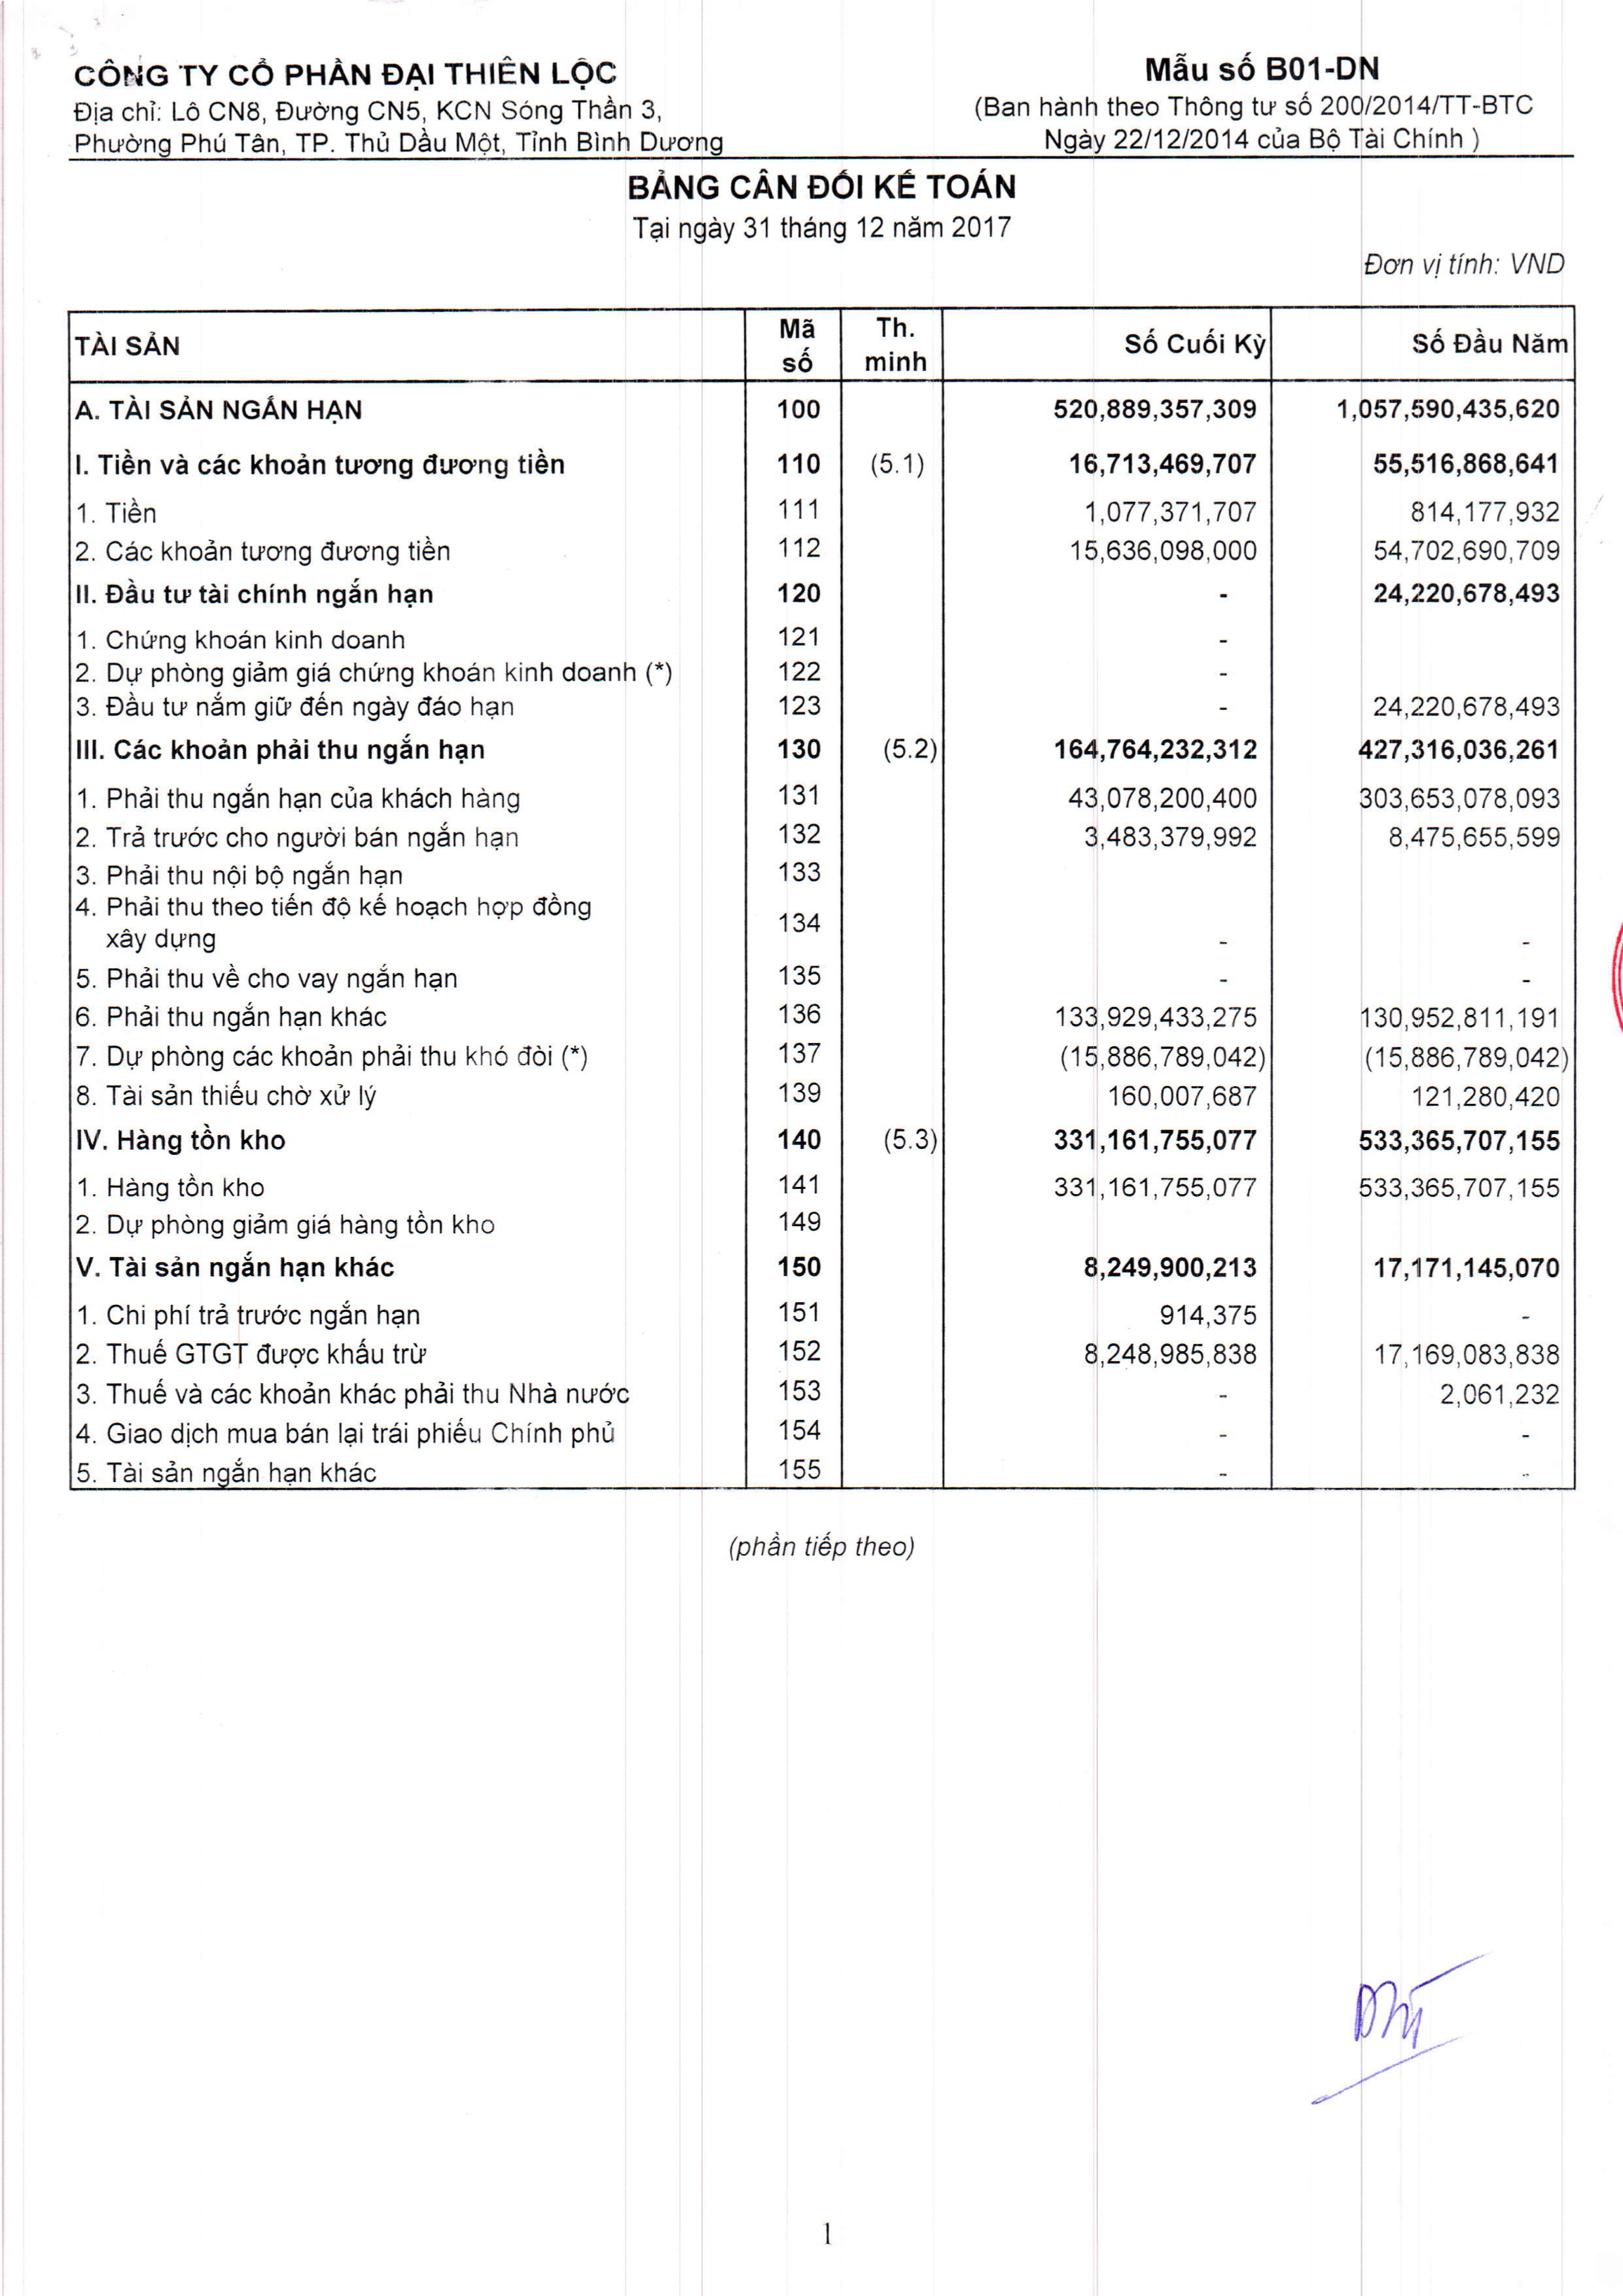table: (53, 290, 1591, 1506)
table column: (69, 288, 699, 1504), (1022, 291, 1277, 1508), (1331, 291, 1577, 1504), (857, 288, 945, 1508), (757, 290, 840, 1504)
table column header: (54, 304, 1591, 384)
table row: (53, 311, 1591, 376), (54, 892, 1591, 957), (53, 384, 1591, 432), (53, 439, 1591, 486), (53, 532, 1591, 572), (53, 618, 1591, 658), (53, 491, 1591, 530), (53, 576, 1591, 614), (53, 732, 1591, 767), (53, 781, 1591, 816), (53, 820, 1591, 855), (53, 960, 1591, 995), (53, 999, 1591, 1034), (53, 1039, 1591, 1074), (53, 1078, 1591, 1113), (53, 1122, 1591, 1157), (53, 1169, 1591, 1204), (53, 1208, 1591, 1243), (53, 1250, 1591, 1285), (53, 1297, 1591, 1332), (53, 1338, 1591, 1373), (53, 1376, 1591, 1411), (53, 1415, 1591, 1450), (53, 1453, 1591, 1489), (54, 690, 1591, 725), (54, 857, 1591, 892), (53, 660, 1591, 688)
